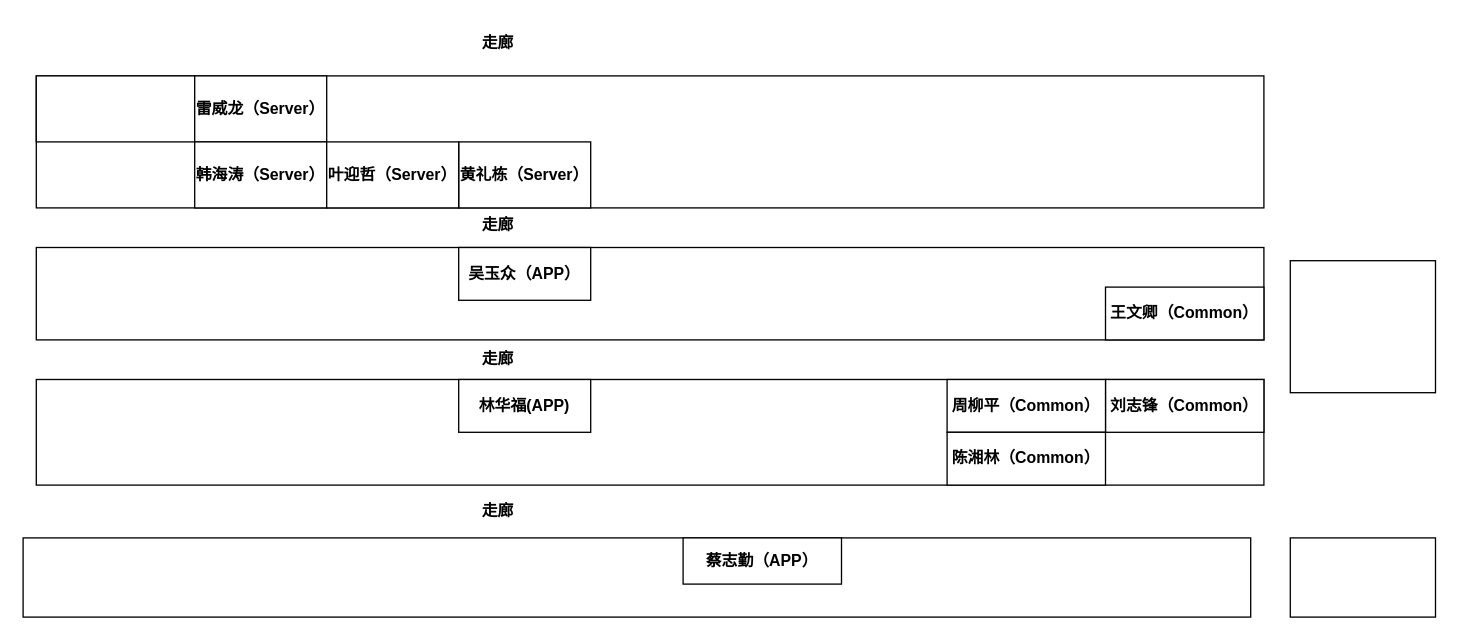
This 1459x640 diagram has some shape labels left out. Here are the shapes that lost their labels. From the top down, the centre of each, then its label:
(x=115, y=108): 罗建华(Server)）
(x=1362, y=326): 604（陈阳）
(x=1362, y=577): 电梯侧门口
